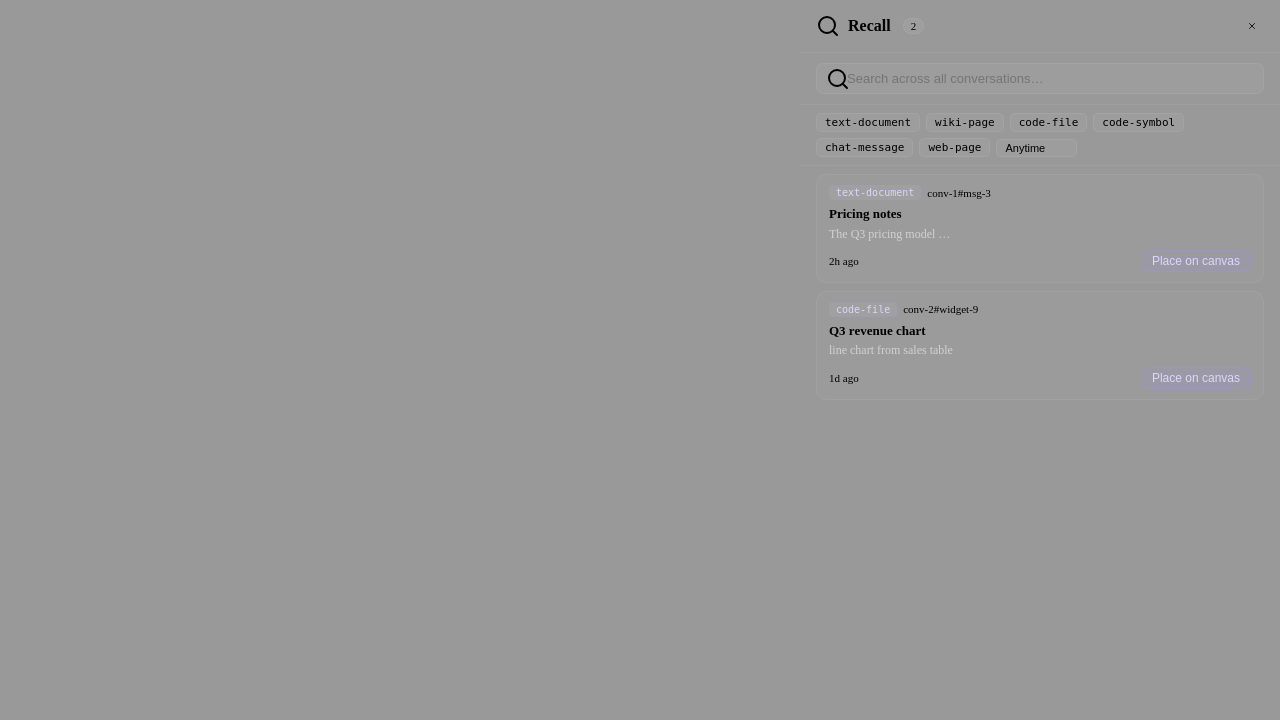
Test: <RecallPanel> › filtering by kind hides non-matching hits
The width and height of the screenshot is (1280, 720).
Expected: the text "Pricing notes" is shown, [829,206,902,221]
Note: Click the 'code-file' chip to show only code-file hits
Click the button "code-file" at (1048, 122), box [1010,113,1087,132]
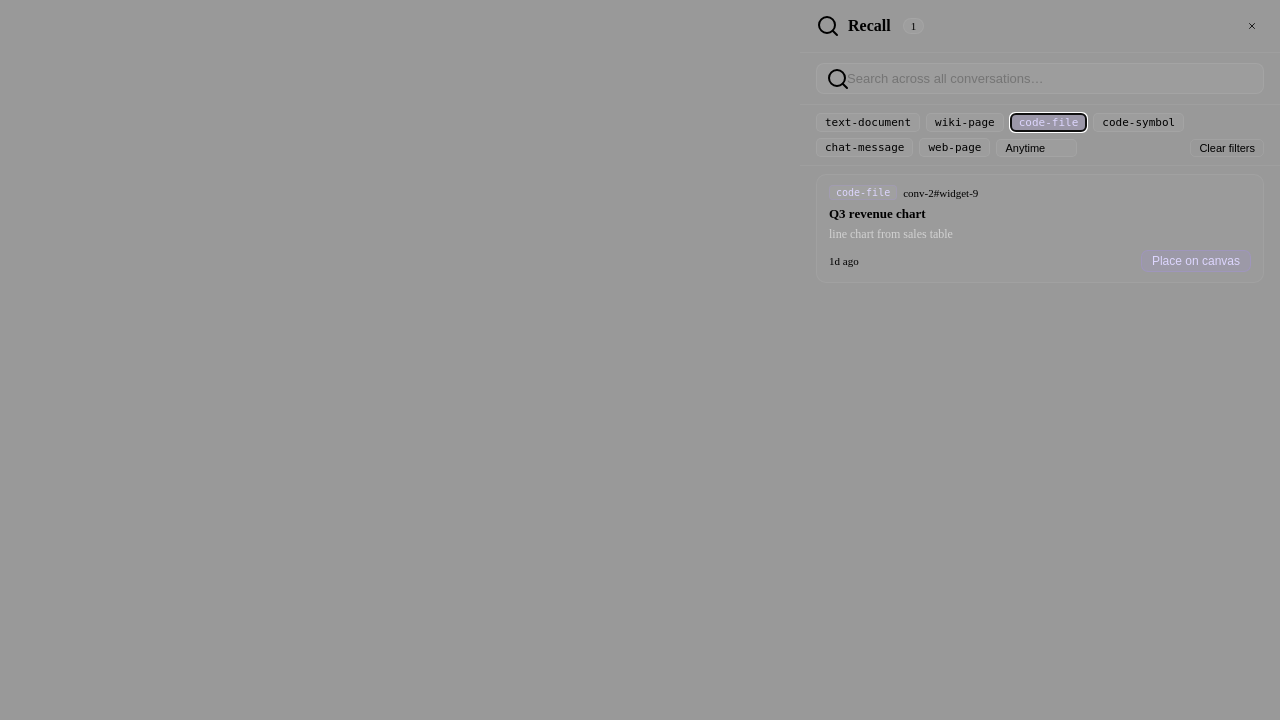
Expected: the text "Q3 revenue chart" is shown, [829,206,926,221]
Expected: the text "Pricing notes" is gone
